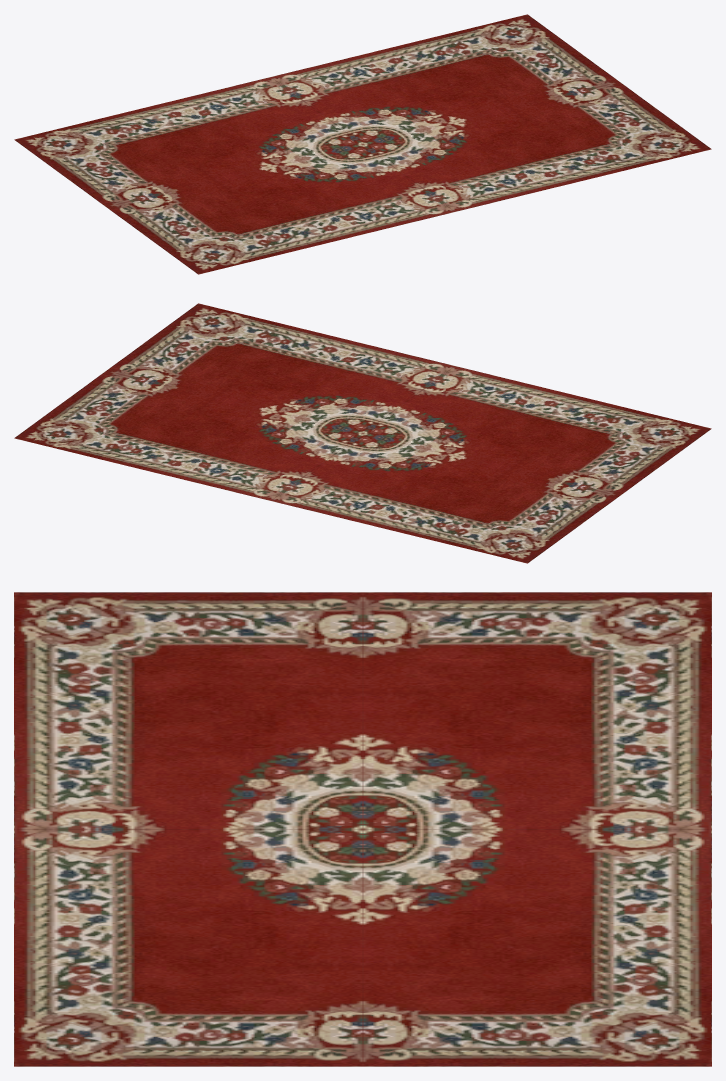
The model's file is Rug01.glb.
3 views of the same model, one above another, from view 1: azimuth 30°, elevation 25°; view 2: azimuth 150°, elevation 25°; view 3: azimuth 270°, elevation 25° (orthographic). The views are drawn at different scales.
Parts seen in each view (by area): view 1: _Rug01; view 2: _Rug01; view 3: _Rug01.
Boxes of the visible parts, bbox=[...] form: _Rug01: bbox=[14, 14, 711, 274]; _Rug01: bbox=[14, 303, 711, 563]; _Rug01: bbox=[14, 592, 711, 1066].
Bounding box in the file's own units: 8.82 × 0 × 5.48.
Materials: 1 (1 with a texture image).
